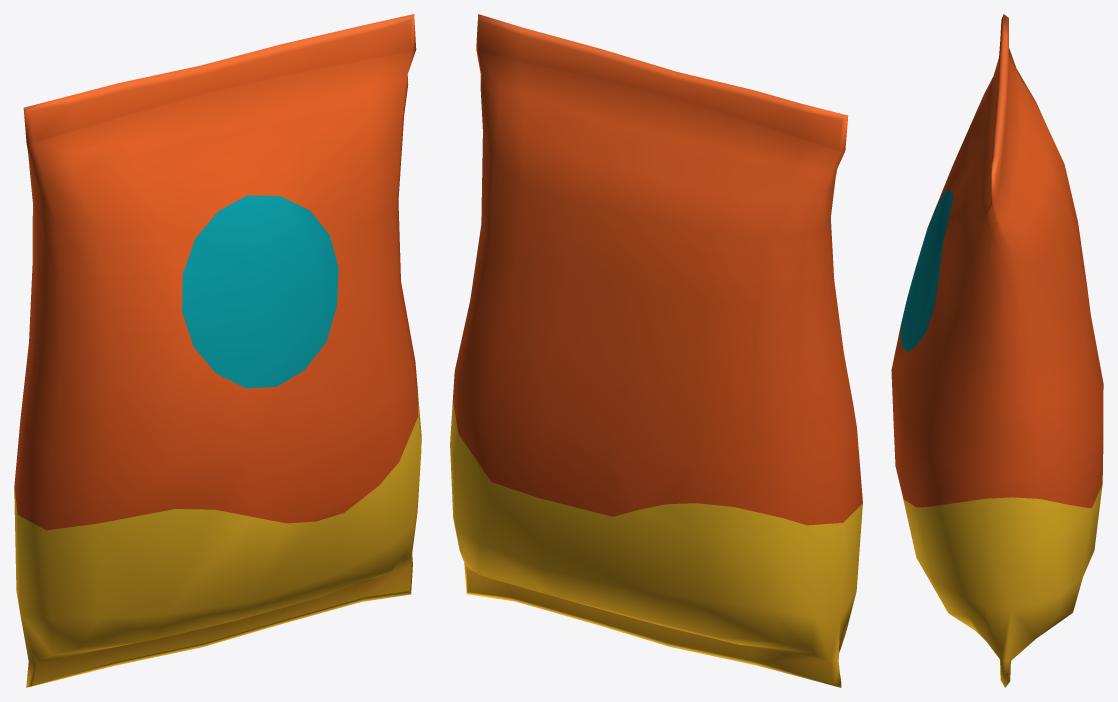
Rendered from chips_013.fbx.
The picture shows the model from 3 angles, left to right: view 1: azimuth 30°, elevation 25°; view 2: azimuth 150°, elevation 25°; view 3: azimuth 270°, elevation 25°; orthographic projection. The views are drawn at different scales.
Parts seen in each view (by area): view 1: chips_013; view 2: chips_013; view 3: chips_013.
Part boxes in pixels (bbox=[...]): chips_013: bbox=[14, 14, 421, 687]; chips_013: bbox=[450, 14, 862, 687]; chips_013: bbox=[891, 14, 1103, 687].
Bounding box in the file's own units: 16.12 × 8.65 × 23.18.
